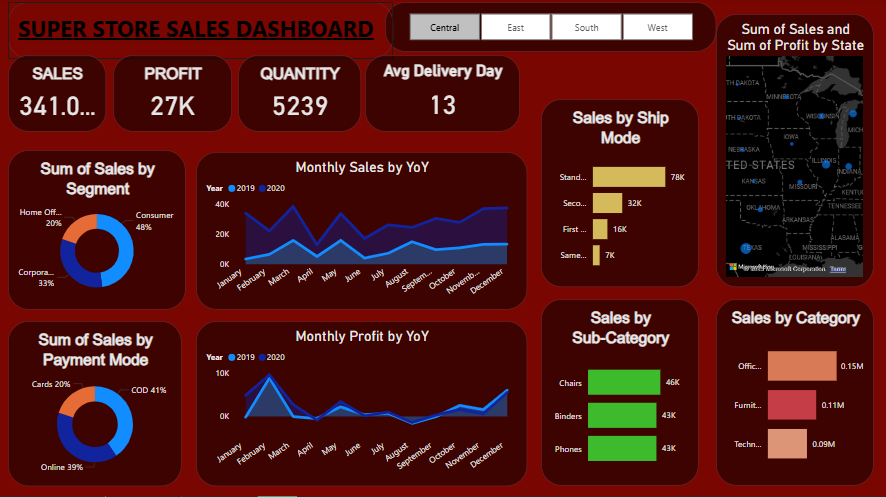

The dashboard page shown, as its layout file describes it:
{"tool":"powerbi","page":{"name":"Page 1","canvas":[1280,720],"ordinal":0},"visuals":[{"type":"clusteredBarChart","title":"Sales by Category","fields":{"Category":["SuperStore_Sales_Dataset (1).Category"],"Y":["SuperStore_Sales_Dataset (1).Sales"]},"box":[1035.2,435.2,228.4,270.4],"z":0},{"type":"clusteredBarChart","title":"Sales by Sub-Category","fields":{"Category":["SuperStore_Sales_Dataset (1).Sub-Category"],"Y":["SuperStore_Sales_Dataset (1).Sales"]},"box":[782.2,435.2,228.4,270.4],"z":1000},{"type":"clusteredBarChart","title":"Sales by Ship Mode","fields":{"Category":["SuperStore_Sales_Dataset (1).Ship Mode"],"Y":["SuperStore_Sales_Dataset (1).Sales"]},"box":[782.2,146,228.4,271.8],"z":2000},{"type":"stackedAreaChart","title":"Monthly Sales by YoY","fields":{"Category":["SuperStore_Sales_Dataset (1).Order Date.Variation.Date Hierarchy.Month","SuperStore_Sales_Dataset (1).Order Date.Variation.Date Hierarchy.Day"],"Y":["SuperStore_Sales_Dataset (1).Sales"],"Series":["SuperStore_Sales_Dataset (1).Order Date.Variation.Date Hierarchy.Year"]},"box":[283.4,222.7,478.6,228.4],"z":3000},{"type":"stackedAreaChart","title":"Monthly Profit by YoY","fields":{"Category":["SuperStore_Sales_Dataset (1).Order Date.Variation.Date Hierarchy.Month"],"Y":["SuperStore_Sales_Dataset (1).Profit"],"Series":["SuperStore_Sales_Dataset (1).Order Date.Variation.Date Hierarchy.Year"]},"box":[282.9,467.1,478.6,238.6],"z":4000},{"type":"map","fields":{"Category":["SuperStore_Sales_Dataset (1).State"],"Size":["SuperStore_Sales_Dataset (1).Sales"]},"box":[1035.2,23.1,228.4,394.7],"z":5000},{"type":"donutChart","fields":{"Y":["SuperStore_Sales_Dataset (1).Sales"],"Category":["SuperStore_Sales_Dataset (1).Segment"]},"box":[11.4,220,257.1,231.4],"z":6000},{"type":"donutChart","fields":{"Y":["SuperStore_Sales_Dataset (1).Sales"],"Category":["SuperStore_Sales_Dataset (1).Payment Mode"]},"box":[11.4,467.1,251.4,238.6],"z":7000},{"type":"slicer","fields":{"Values":["SuperStore_Sales_Dataset (1).Region"]},"box":[556.6,5.8,478.6,72.3],"z":8000},{"type":"textbox","box":[11.6,5.8,556.6,82.4],"z":9000},{"type":"card","title":"SALES","fields":{"Values":["SuperStore_Sales_Dataset (1).Sales"]},"box":[11.6,82.4,141.7,111.3],"z":10000},{"type":"card","title":"PROFIT","fields":{"Values":["SuperStore_Sales_Dataset (1).Profit"]},"box":[163.4,82.4,172,111.3],"z":11000},{"type":"card","title":"QUANTITY","fields":{"Values":["SuperStore_Sales_Dataset (1).Quantity"]},"box":[344.1,82.4,177.8,111.3],"z":12000},{"type":"card","title":"Avg Delivery Day","fields":{"Values":["SuperStore_Sales_Dataset (1).Delivery time"]},"box":[527.7,82.4,224.1,111.3],"z":13000}]}

Visuals, with their boxes in screenshot pixels (x1, y1, x2, y2), scaled from the page's 1280x720 canvas onto the 886x497 screenshot:
"Sales by Category" clusteredBarChart: 717,300,875,487
"Sales by Sub-Category" clusteredBarChart: 541,300,700,487
"Sales by Ship Mode" clusteredBarChart: 541,101,700,288
"Monthly Sales by YoY" stackedAreaChart: 196,154,527,311
"Monthly Profit by YoY" stackedAreaChart: 196,322,527,487
map - SuperStore_Sales_Dataset (1).State x SuperStore_Sales_Dataset (1).Sales: 717,16,875,288
donutChart - SuperStore_Sales_Dataset (1).Sales x SuperStore_Sales_Dataset (1).Segment: 8,152,186,312
donutChart - SuperStore_Sales_Dataset (1).Sales x SuperStore_Sales_Dataset (1).Payment Mode: 8,322,182,487
slicer - SuperStore_Sales_Dataset (1).Region: 385,4,717,54
textbox: 8,4,393,61
"SALES" card: 8,57,106,134
"PROFIT" card: 113,57,232,134
"QUANTITY" card: 238,57,361,134
"Avg Delivery Day" card: 365,57,520,134
